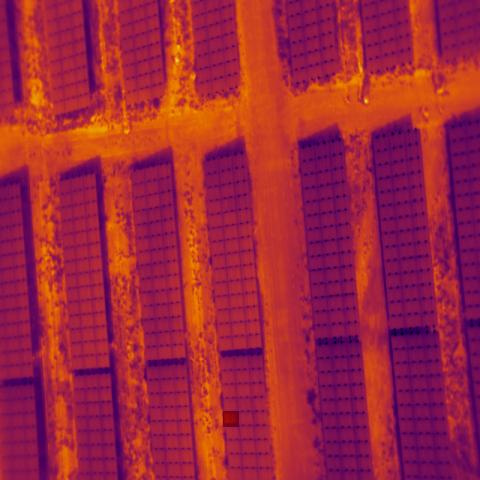fault: (224, 411, 239, 427)
